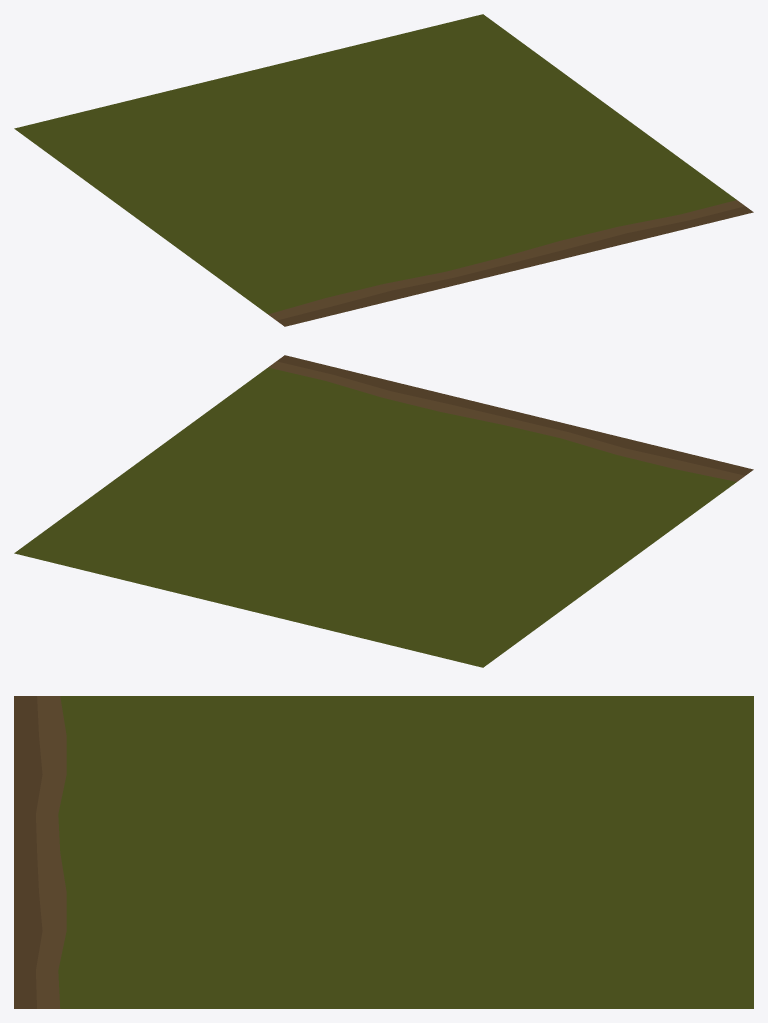
File: SM_parcel_00.glb
3 views of the same model, one above another, from view 1: azimuth 30°, elevation 25°; view 2: azimuth 150°, elevation 25°; view 3: azimuth 270°, elevation 25° (orthographic). The views are drawn at different scales.
Visible parts, largest first — view 1: SM_parcel_00; view 2: SM_parcel_00; view 3: SM_parcel_00.
Part boxes in pixels (x1,y1,x2,y2): SM_parcel_00: [14, 14, 753, 326]; SM_parcel_00: [14, 355, 753, 667]; SM_parcel_00: [14, 696, 753, 1008].
Bounding box in the file's own units: 32 × 1.19e-09 × 32.
Materials: 1 (1 with a texture image).
